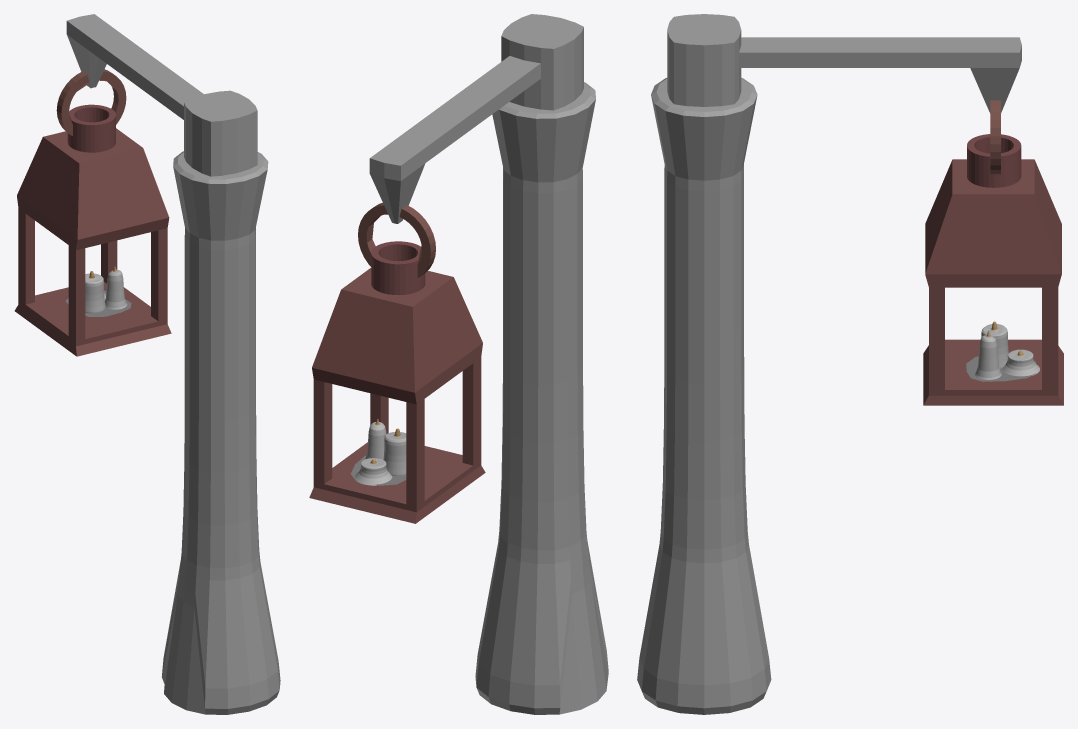
The model's file is Luz.fbx.
The picture shows the model from 3 angles, left to right: view 1: azimuth 30°, elevation 25°; view 2: azimuth 150°, elevation 25°; view 3: azimuth 270°, elevation 25°; orthographic projection. The views are drawn at different scales.
Visible parts, largest first — view 1: Cube, Cylinder.001, Cylinder.002; view 2: Cube, Cylinder.001, Cylinder.002; view 3: Cube, Cylinder.001, Cylinder.002.
Boxes of the visible parts, x1=… form: Cube: x1=66, y1=14, x2=280, y2=714; Cylinder.001: x1=14, y1=69, x2=171, y2=356; Cylinder.002: x1=85, y1=266, x2=127, y2=313; Cube: x1=369, y1=14, x2=608, y2=714; Cylinder.001: x1=309, y1=202, x2=485, y2=523; Cylinder.002: x1=355, y1=419, x2=406, y2=485; Cube: x1=637, y1=14, x2=1021, y2=714; Cylinder.001: x1=923, y1=100, x2=1063, y2=405; Cylinder.002: x1=975, y1=321, x2=1039, y2=379.
Size of the model in its own units: 211 by 1171 by 687.
